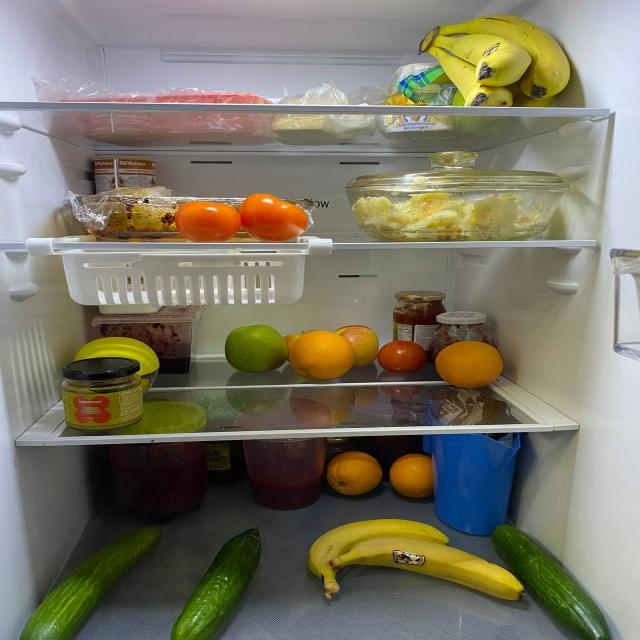Apple: (223, 324, 290, 378), (331, 322, 382, 371)
Banana: (420, 13, 572, 108), (333, 534, 539, 600), (310, 520, 449, 604)
Cucumber: (18, 518, 162, 640), (486, 516, 616, 637), (168, 526, 268, 640)
Orange: (289, 324, 356, 383), (433, 338, 508, 390), (325, 450, 383, 496), (388, 453, 441, 498)
Tomato: (240, 192, 310, 242), (174, 200, 242, 240), (378, 338, 428, 375)
